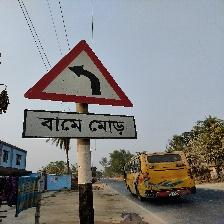Left-Turn: (22, 40, 135, 141)
